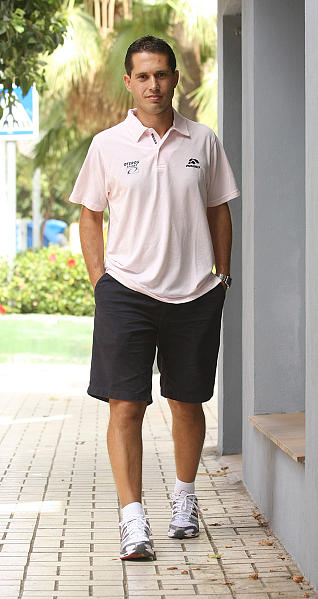person: (72, 31, 237, 316)
